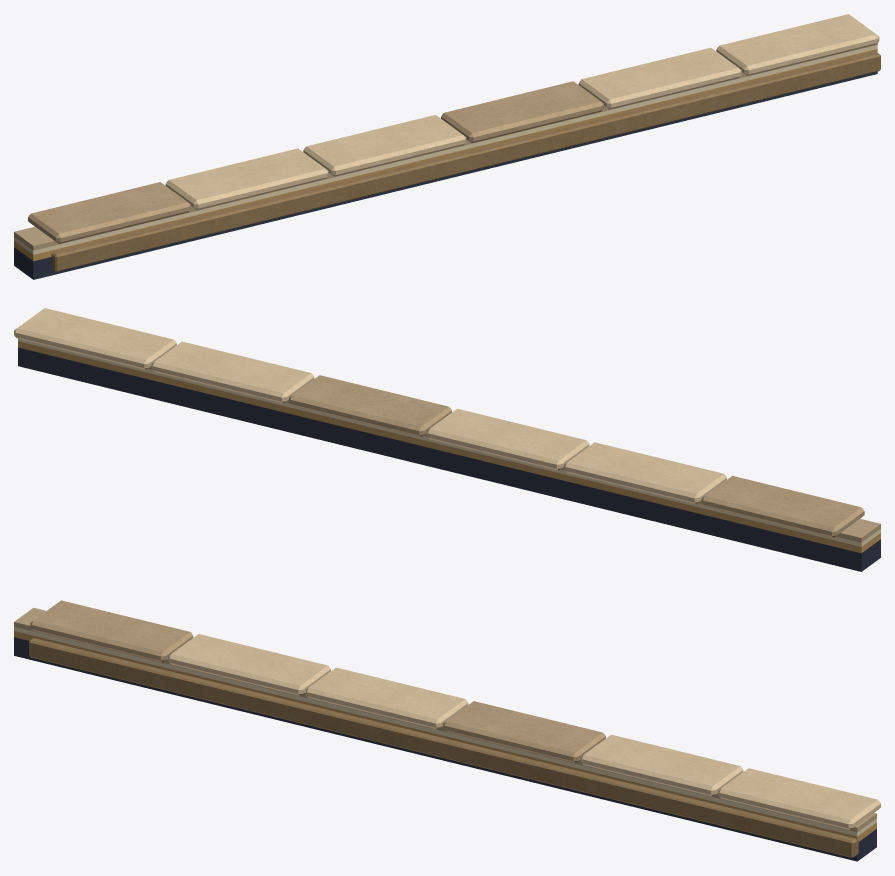
File: front-right-wall.glb
The picture shows the model from 3 angles, top to bottom: view 1: azimuth 30°, elevation 25°; view 2: azimuth 150°, elevation 25°; view 3: azimuth 330°, elevation 25°; orthographic projection.
Visible parts, largest first — view 1: Front sandstone bevel.001, Jointed coping stone.022, Jointed coping stone.024, Jointed coping stone.027, Jointed coping stone.026, Jointed coping stone.023, Jointed coping stone.025, Plaster5, Wainscot5, BrassRail5, Cap5; view 2: Wainscot5, BrassRail5, Jointed coping stone.022, Jointed coping stone.024, Jointed coping stone.023, Jointed coping stone.026, Jointed coping stone.025, Jointed coping stone.027, Plaster5, Cap5; view 3: Front sandstone bevel.001, Jointed coping stone.027, Jointed coping stone.022, Jointed coping stone.024, Jointed coping stone.026, Jointed coping stone.025, Jointed coping stone.023, Plaster5, Wainscot5, BrassRail5, Cap5.
Boxes of the visible parts, x1,y1,x2,y2 form: Front sandstone bevel.001: [51, 52, 880, 271]; Jointed coping stone.022: [28, 182, 190, 243]; Jointed coping stone.024: [303, 115, 466, 176]; Jointed coping stone.027: [716, 14, 879, 75]; Jointed coping stone.026: [578, 47, 741, 109]; Jointed coping stone.023: [165, 148, 328, 210]; Jointed coping stone.025: [441, 81, 603, 143]; Plaster5: [14, 45, 877, 254]; Wainscot5: [14, 71, 877, 279]; BrassRail5: [14, 49, 877, 261]; Cap5: [14, 44, 877, 250]; Wainscot5: [18, 347, 880, 571]; BrassRail5: [18, 341, 880, 553]; Jointed coping stone.022: [701, 476, 864, 537]; Jointed coping stone.024: [426, 408, 589, 470]; Jointed coping stone.023: [564, 442, 726, 504]; Jointed coping stone.026: [151, 341, 314, 403]; Jointed coping stone.025: [289, 375, 451, 436]; Jointed coping stone.027: [14, 308, 176, 369]; Plaster5: [18, 339, 880, 546]; Cap5: [148, 366, 880, 542]; Front sandstone bevel.001: [29, 638, 858, 857]; Jointed coping stone.027: [718, 768, 880, 829]; Jointed coping stone.022: [30, 600, 193, 662]; Jointed coping stone.024: [305, 667, 468, 729]; Jointed coping stone.026: [580, 734, 743, 796]; Jointed coping stone.025: [443, 701, 605, 762]; Jointed coping stone.023: [168, 634, 330, 695]; Plaster5: [14, 626, 876, 836]; Wainscot5: [14, 637, 876, 861]; BrassRail5: [14, 631, 876, 841]; Cap5: [14, 607, 876, 832].
Bounding box in the file's own units: 6.25 × 0.303 × 0.4.
7 materials, 3 textured.
